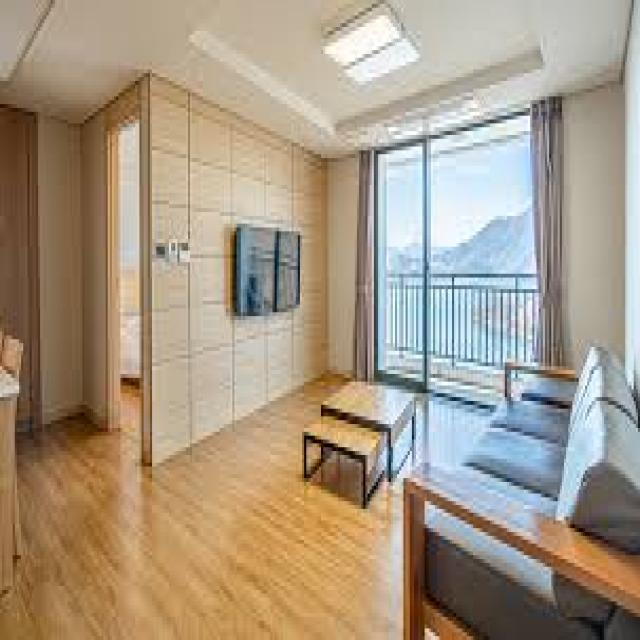Sofa: (409, 348, 640, 640)
Table: (299, 378, 420, 495)
tv: (233, 224, 302, 312)
window: (364, 150, 561, 336)
